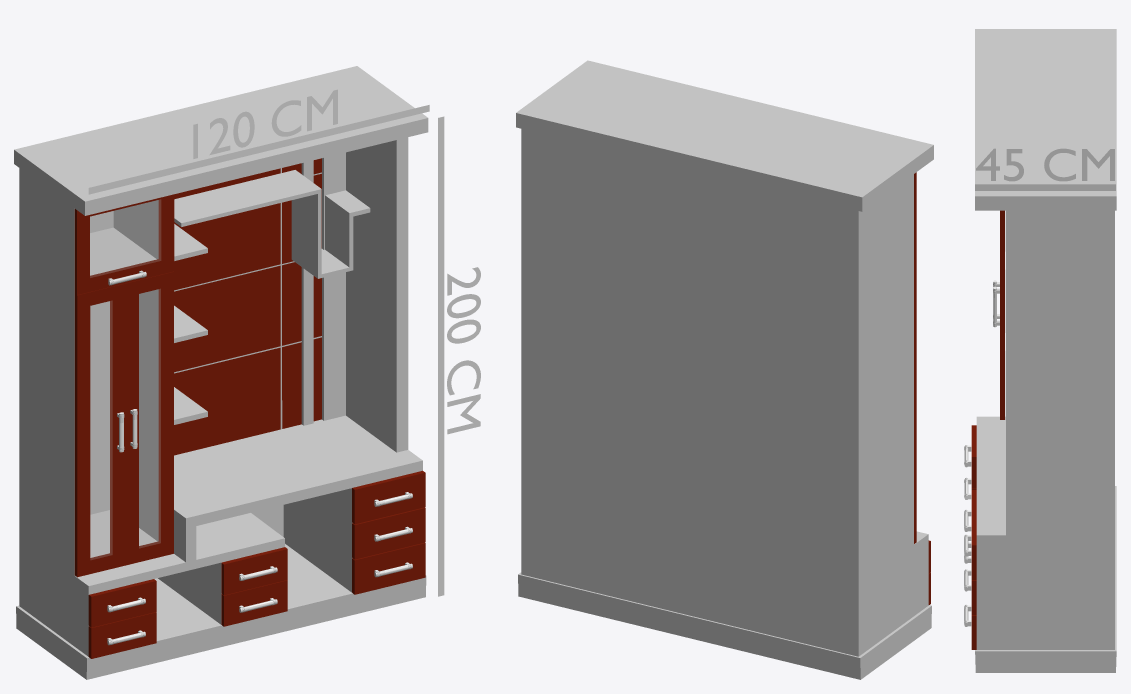
The model's file is Lemari_Merah.glb.
3 renders of one model, left to right at view 1: azimuth 30°, elevation 25°; view 2: azimuth 150°, elevation 25°; view 3: azimuth 270°, elevation 25°, orthographic.
Visible parts, largest first — view 1: Cube, Plane, Plane.001, Handle, Text, Text.001; view 2: Cube; view 3: Cube, Text.002, Handle, Plane.002.
Boxes of the visible parts, x1,y1,x2,y2 form: Cube: (14,66,428,679); Plane: (438,116,444,596); Plane.001: (88,105,429,194); Handle: (107,270,412,645); Text: (447,267,480,434); Text.001: (193,89,337,158); Cube: (516,60,933,679); Cube: (971,29,1116,672); Text.002: (976,148,1114,181); Handle: (964,280,999,626); Plane.002: (975,184,1115,190).
Size of the model in its own units: 2.88 by 3.73 by 0.9697.
